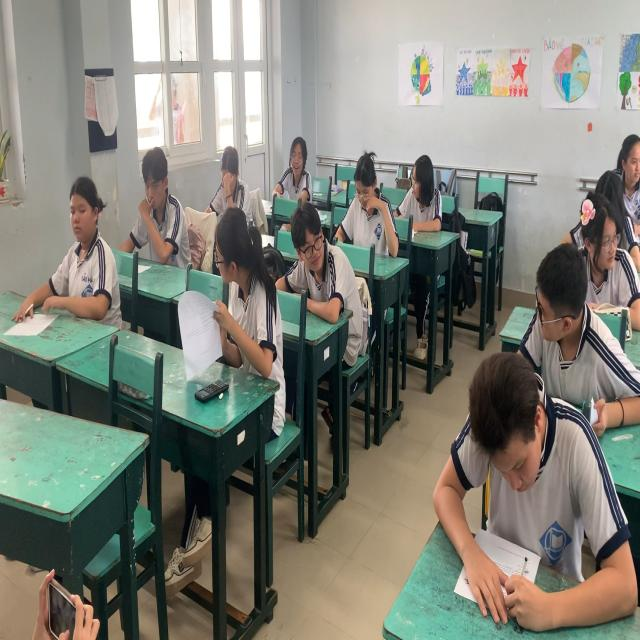cheating: (206, 202, 286, 385), (519, 250, 604, 378), (573, 185, 628, 288), (288, 208, 338, 296), (398, 146, 448, 233)
not_cheating: (424, 378, 618, 610), (60, 153, 117, 330), (332, 140, 398, 250), (134, 140, 187, 265), (208, 140, 248, 212), (272, 132, 310, 202)
